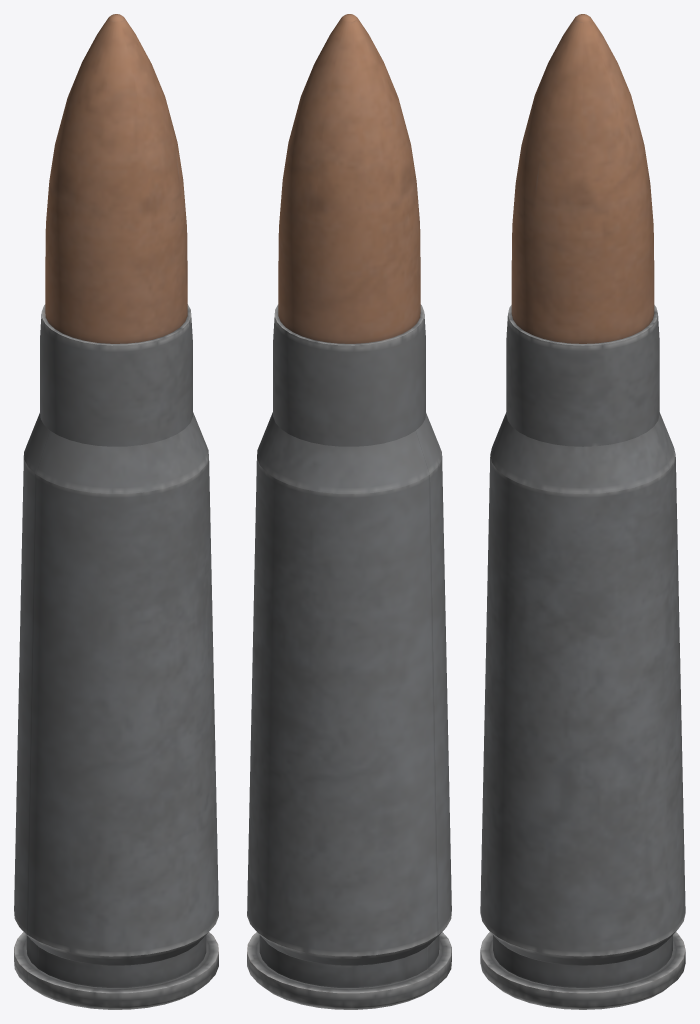
The model's file is round_762x39.glb.
The picture shows the model from 3 angles, left to right: view 1: azimuth 30°, elevation 25°; view 2: azimuth 150°, elevation 25°; view 3: azimuth 270°, elevation 25°; orthographic projection.
Visible parts, largest first — view 1: Round; view 2: Round; view 3: Round.
Boxes of the visible parts, x1,y1,x2,y2 form: Round: [14, 14, 218, 1009]; Round: [247, 14, 451, 1009]; Round: [480, 14, 685, 1009].
Size of the model in its own units: 0.0114 by 0.0582 by 0.0114.
1 material, 1 textured.
